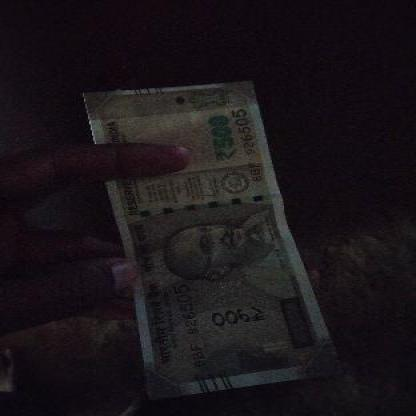New500Front: (88, 90, 330, 384)
